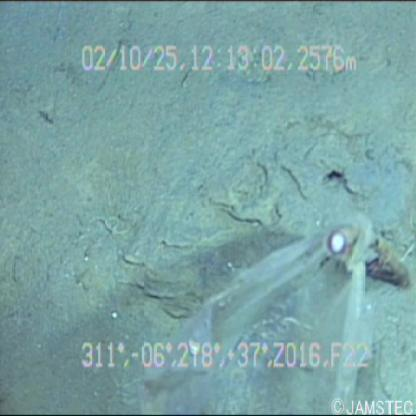Rác: (121, 192, 369, 415)
